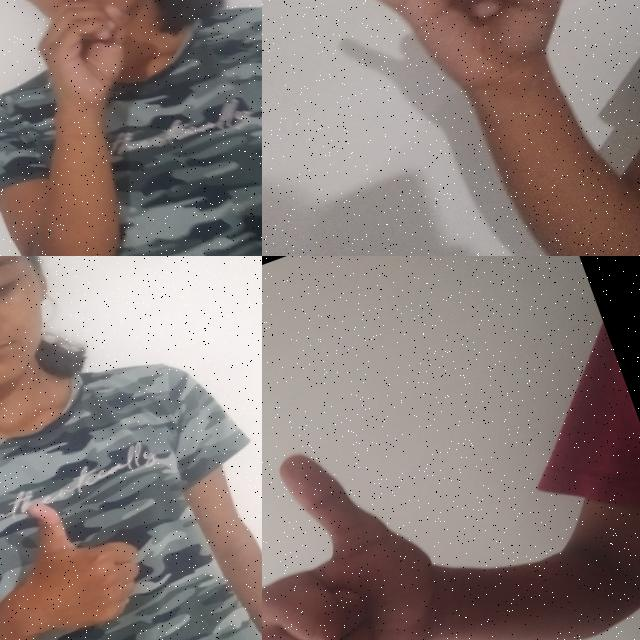Corna: (292, 0, 615, 165)
Fist Mouth: (0, 0, 224, 129)
Thumbs Up: (262, 410, 501, 640), (0, 472, 167, 640)
